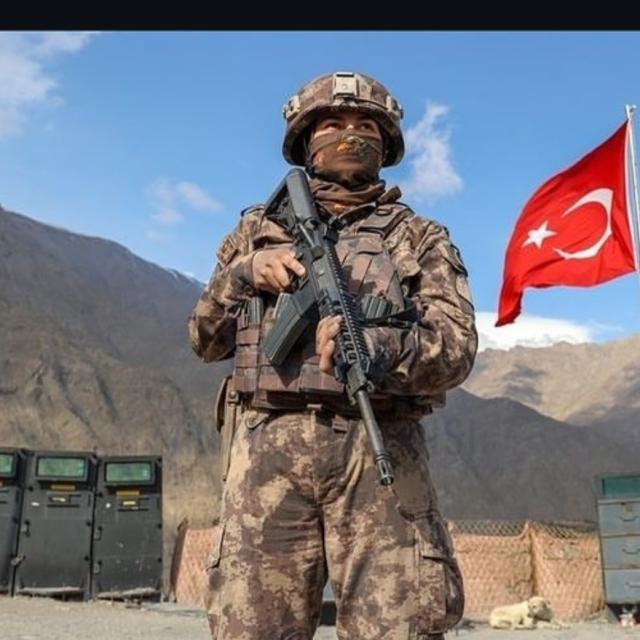poh_personel: (190, 70, 479, 640)
